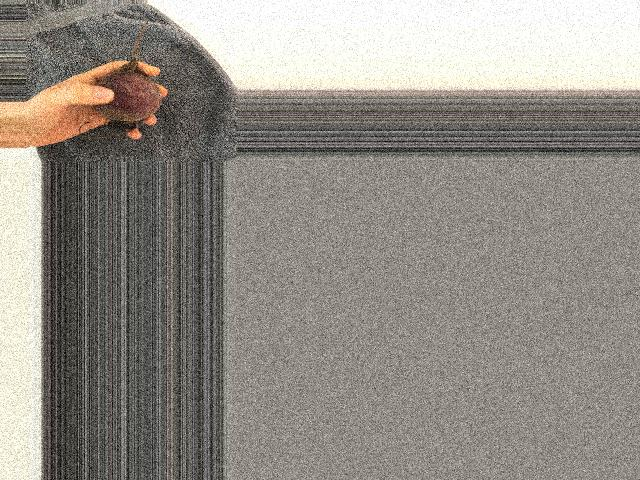beet: (93, 19, 162, 129)
